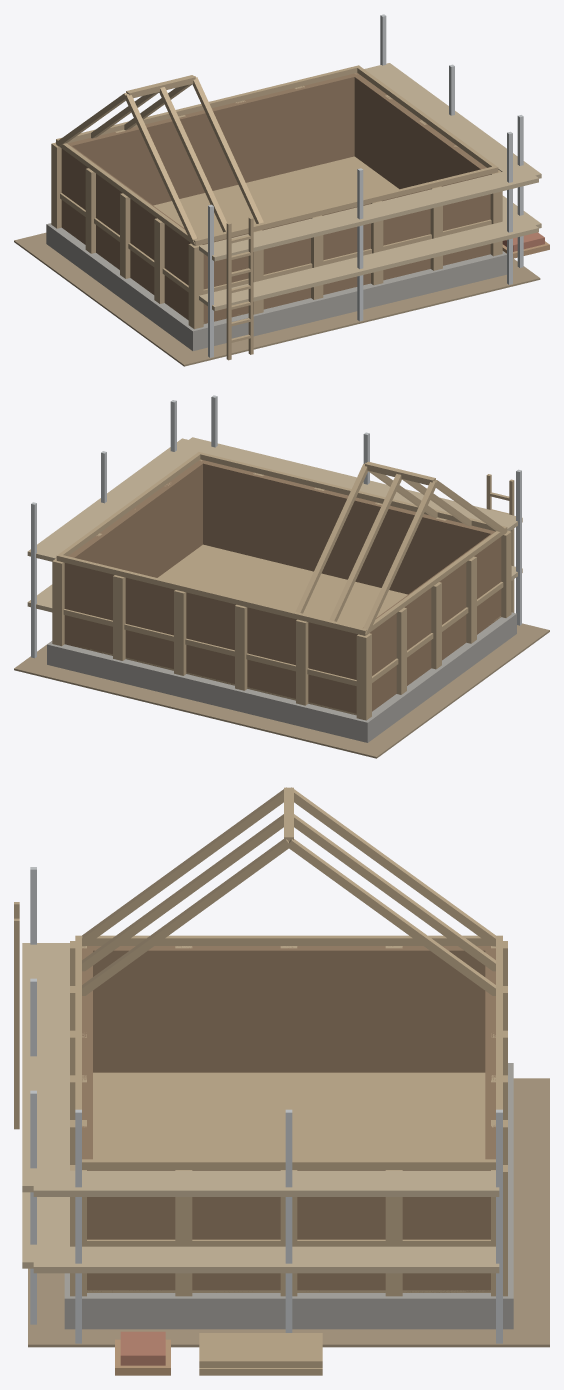
The model's file is horse_stable_site_8.glb.
The picture shows the model from 3 angles, top to bottom: view 1: azimuth 30°, elevation 25°; view 2: azimuth 150°, elevation 25°; view 3: azimuth 270°, elevation 25°; orthographic projection. The views are drawn at different scales.
Visible parts, largest first — view 1: body; view 2: body; view 3: body.
Boxes of the visible parts, <box> form: body: <box>14,14,549,366</box>; body: <box>14,395,549,758</box>; body: <box>14,787,549,1375</box>.
Size of the model in its own units: 2.49 by 1.24 by 1.91.
